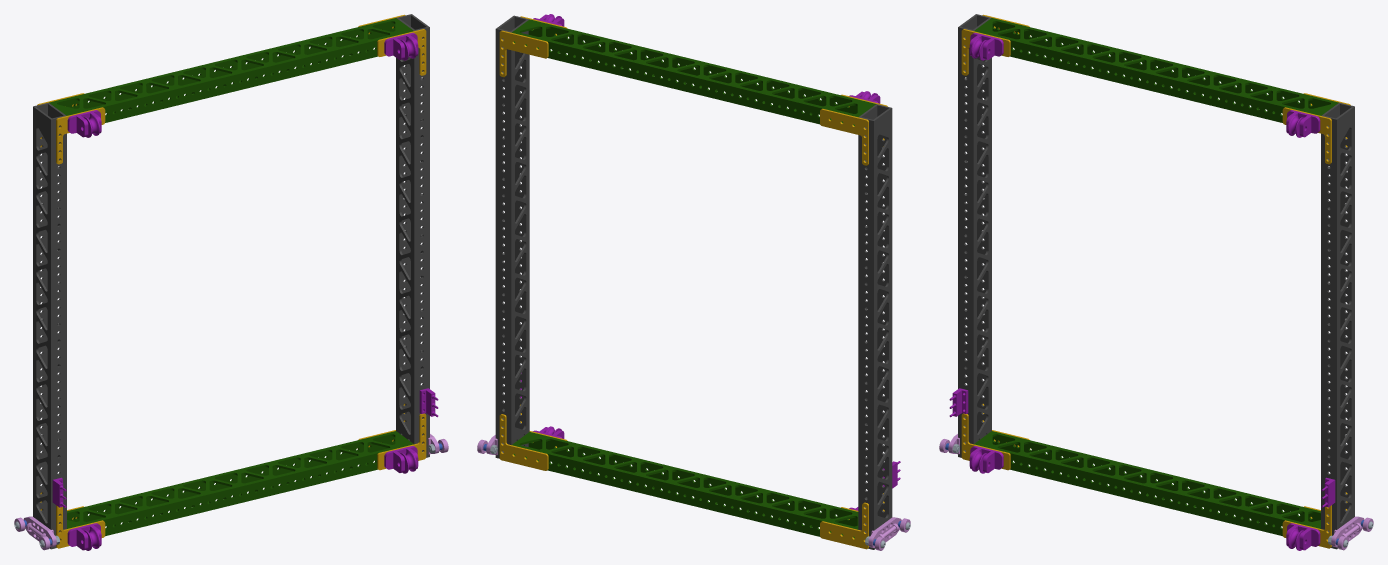
The picture shows the model from 3 angles, left to right: view 1: azimuth 30°, elevation 25°; view 2: azimuth 150°, elevation 25°; view 3: azimuth 330°, elevation 25°; orthographic projection.
Visible parts, largest first — view 1: Middle Stage Side Tube (×2), Middle Stage Top & Bottom Tube (×2), 4mm Dyneema Cable Pulley Bracket ELEV-PULLEY-001 (×4), Middle Stage Tube Connector Gusset (×3); view 2: Middle Stage Side Tube (×2), Middle Stage Top & Bottom Tube (×2), Middle Stage Tube Connector Gusset (×4); view 3: Middle Stage Side Tube (×2), Middle Stage Top & Bottom Tube (×2), 4mm Dyneema Cable Pulley Bracket ELEV-PULLEY-001 (×4), Middle Stage Tube Connector Gusset (×3).
Boxes of the visible parts, left/top/right/bottom form: Middle Stage Side Tube (×2): left=33, top=14, right=429, bottom=549; Middle Stage Top & Bottom Tube (×2): left=49, top=18, right=413, bottom=536; 4mm Dyneema Cable Pulley Bracket ELEV-PULLEY-001 (×4): left=67, top=32, right=418, bottom=550; Middle Stage Tube Connector Gusset (×3): left=56, top=29, right=426, bottom=470; Middle Stage Side Tube (×2): left=495, top=15, right=892, bottom=549; Middle Stage Top & Bottom Tube (×2): left=511, top=19, right=875, bottom=538; Middle Stage Tube Connector Gusset (×4): left=499, top=30, right=868, bottom=549; Middle Stage Side Tube (×2): left=958, top=14, right=1354, bottom=549; Middle Stage Top & Bottom Tube (×2): left=974, top=18, right=1338, bottom=536; 4mm Dyneema Cable Pulley Bracket ELEV-PULLEY-001 (×4): left=969, top=32, right=1320, bottom=550; Middle Stage Tube Connector Gusset (×3): left=961, top=29, right=1331, bottom=470.
Size of the model in its own units: 0.6544 by 0.6642 by 0.1076.
